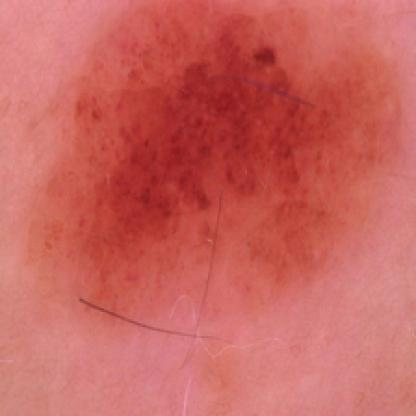benign: (82, 24, 336, 268)
